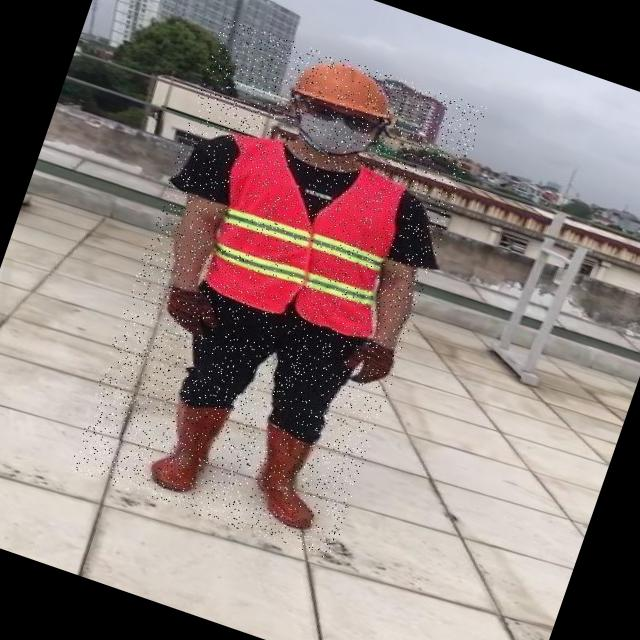hard_hat: (282, 44, 406, 129)
safety_vest: (182, 126, 420, 342)
vehicle: (69, 18, 486, 560)
work_boots: (228, 418, 340, 532), (148, 393, 230, 497)
